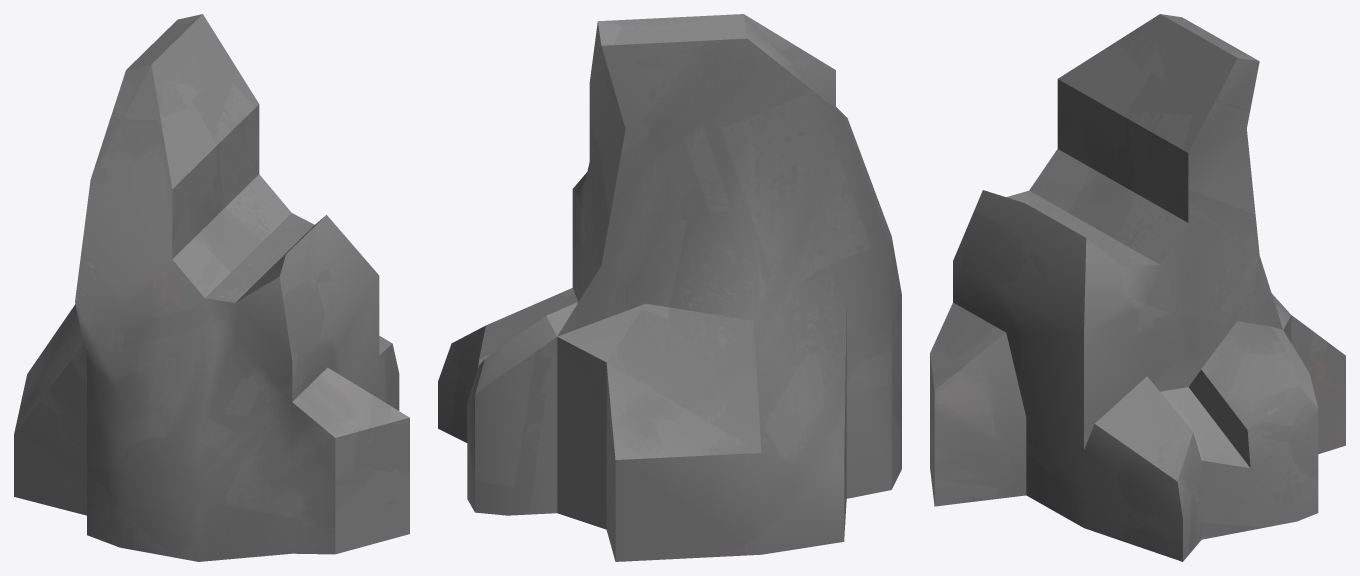
File: medium rock.fbx
3 renders of one model, left to right at view 1: azimuth 30°, elevation 25°; view 2: azimuth 150°, elevation 25°; view 3: azimuth 270°, elevation 25°, orthographic. The views are drawn at different scales.
Visible parts, largest first — view 1: Box003; view 2: Box003; view 3: Box003.
Part boxes in pixels (x1,y1,x2,y2): Box003: (14, 14, 409, 561); Box003: (438, 14, 901, 561); Box003: (930, 14, 1345, 561).
Bounding box in the file's own units: 159 × 172 × 154.
